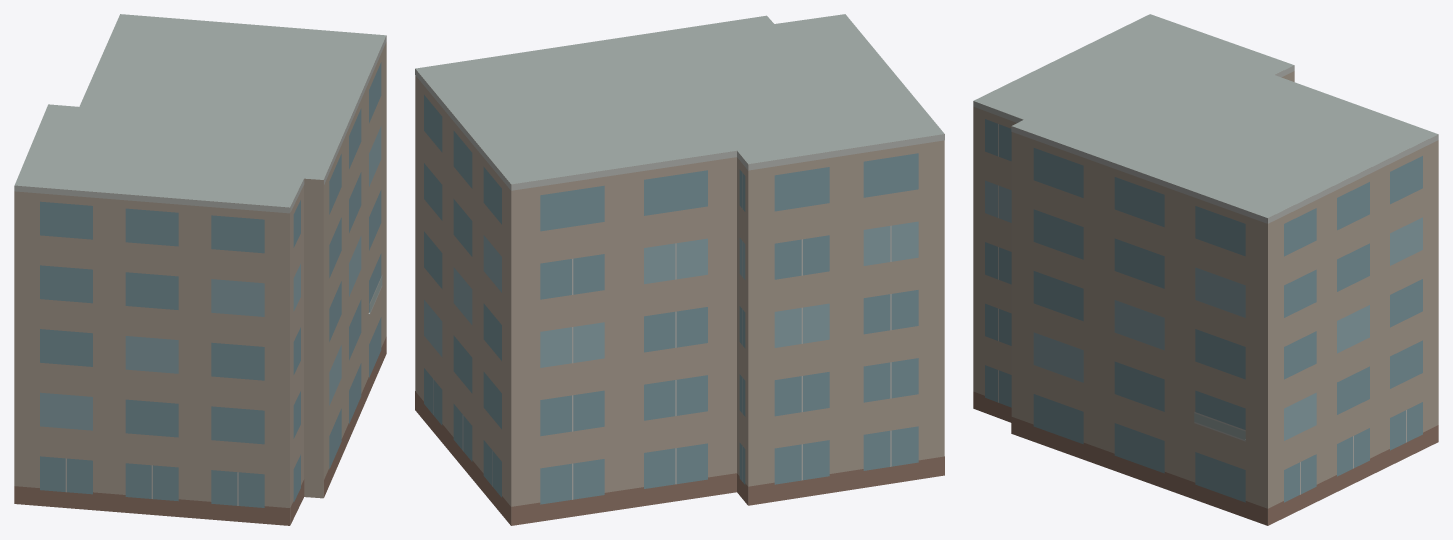
Rendered from survey-upis-32848165.glb.
3 renders of one model, left to right at view 1: azimuth 30°, elevation 25°; view 2: azimuth 150°, elevation 25°; view 3: azimuth 270°, elevation 25°, orthographic. The views are drawn at different scales.
Parts seen in each view (by area): view 1: survey-upis-32848165.tmp; view 2: survey-upis-32848165.tmp; view 3: survey-upis-32848165.tmp.
Boxes of the visible parts, left/top/right/bottom form: survey-upis-32848165.tmp: left=14, top=14, right=386, bottom=525; survey-upis-32848165.tmp: left=415, top=14, right=944, bottom=525; survey-upis-32848165.tmp: left=973, top=14, right=1438, bottom=525.
Size of the model in its own units: 18.8 by 13.2 by 18.1.
